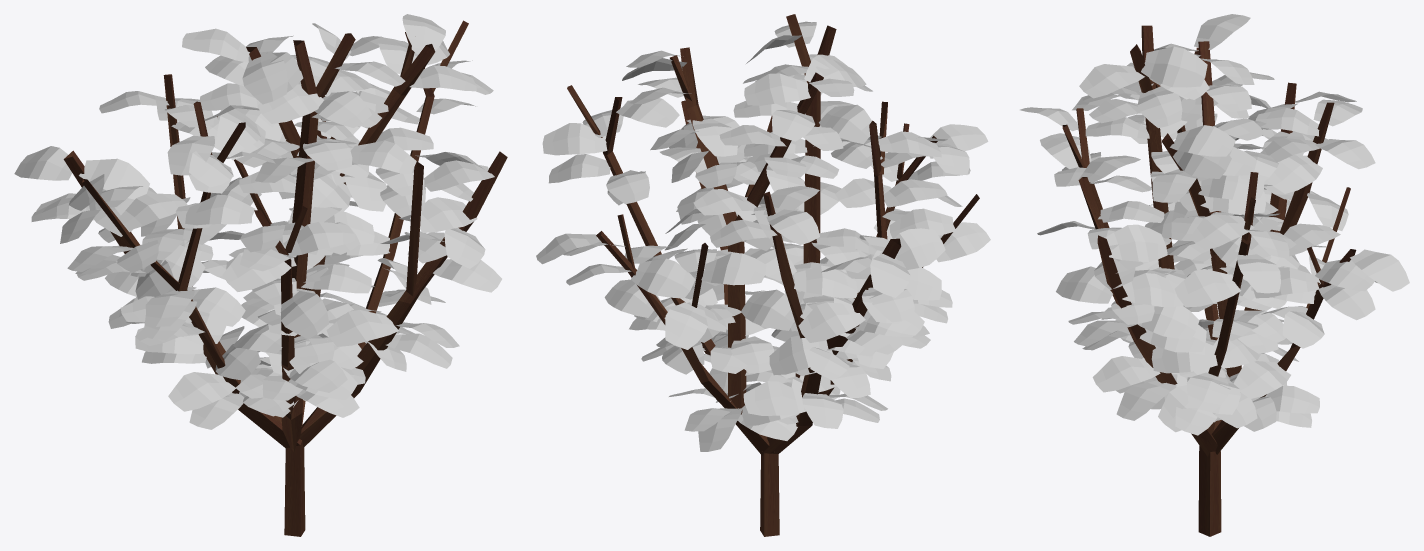
Rendered from Tree_Leaf.fbx.
The picture shows the model from 3 angles, left to right: view 1: azimuth 30°, elevation 25°; view 2: azimuth 150°, elevation 25°; view 3: azimuth 270°, elevation 25°; orthographic projection. The views are drawn at different scales.
Visible parts, largest first — view 1: BigTreeNokrei, leaf.081, leaf.119, leaf.070, leaf.019, leaf.166, leaf.054, leaf.186, leaf.020, leaf.188, leaf.029, leaf.001 (+62 smaller); view 2: BigTreeNokrei, leaf.133, leaf.053, leaf.036, leaf.191, leaf.074, leaf.149, leaf.164, leaf.169, leaf.048, leaf.028, leaf.126 (+51 smaller); view 3: BigTreeNokrei, leaf.193, leaf.088, leaf.148, leaf.079, leaf.083, leaf.182, leaf.131, leaf.134, leaf.151, leaf.138, leaf.082 (+55 smaller).
Boxes of the visible parts, box(x1,y1,x2,y2) form: BigTreeNokrei: box(63, 20, 507, 536); leaf.081: box(326, 310, 398, 346); leaf.119: box(168, 372, 235, 411); leaf.070: box(242, 52, 288, 104); leaf.019: box(280, 291, 329, 338); leaf.166: box(185, 194, 255, 225); leaf.054: box(79, 158, 149, 199); leaf.186: box(350, 140, 416, 174); leaf.020: box(283, 221, 354, 256); leaf.188: box(118, 193, 187, 230); leaf.029: box(257, 84, 323, 123); leaf.001: box(14, 146, 71, 180); BigTreeNokrei: box(567, 14, 979, 536); leaf.133: box(631, 258, 695, 298); leaf.053: box(798, 302, 865, 342); leaf.036: box(743, 381, 806, 415); leaf.191: box(701, 253, 766, 285); leaf.074: box(744, 73, 810, 105); leaf.149: box(542, 123, 607, 155); leaf.164: box(741, 289, 794, 330); leaf.169: box(793, 265, 857, 298); leaf.048: box(880, 228, 945, 269); leaf.028: box(665, 302, 707, 349); leaf.126: box(819, 104, 871, 144); BigTreeNokrei: box(1062, 25, 1356, 536); leaf.193: box(1141, 46, 1207, 87); leaf.088: box(1105, 224, 1167, 261); leaf.148: box(1174, 269, 1241, 307); leaf.079: box(1092, 356, 1160, 392); leaf.083: box(1122, 273, 1183, 306); leaf.182: box(1170, 125, 1235, 156); leaf.131: box(1233, 361, 1290, 398); leaf.134: box(1350, 249, 1409, 291); leaf.151: box(1190, 214, 1254, 249); leaf.138: box(1151, 343, 1217, 373); leaf.082: box(1137, 306, 1199, 339).
Size of the model in its own units: 1235 by 1443 by 1036.
